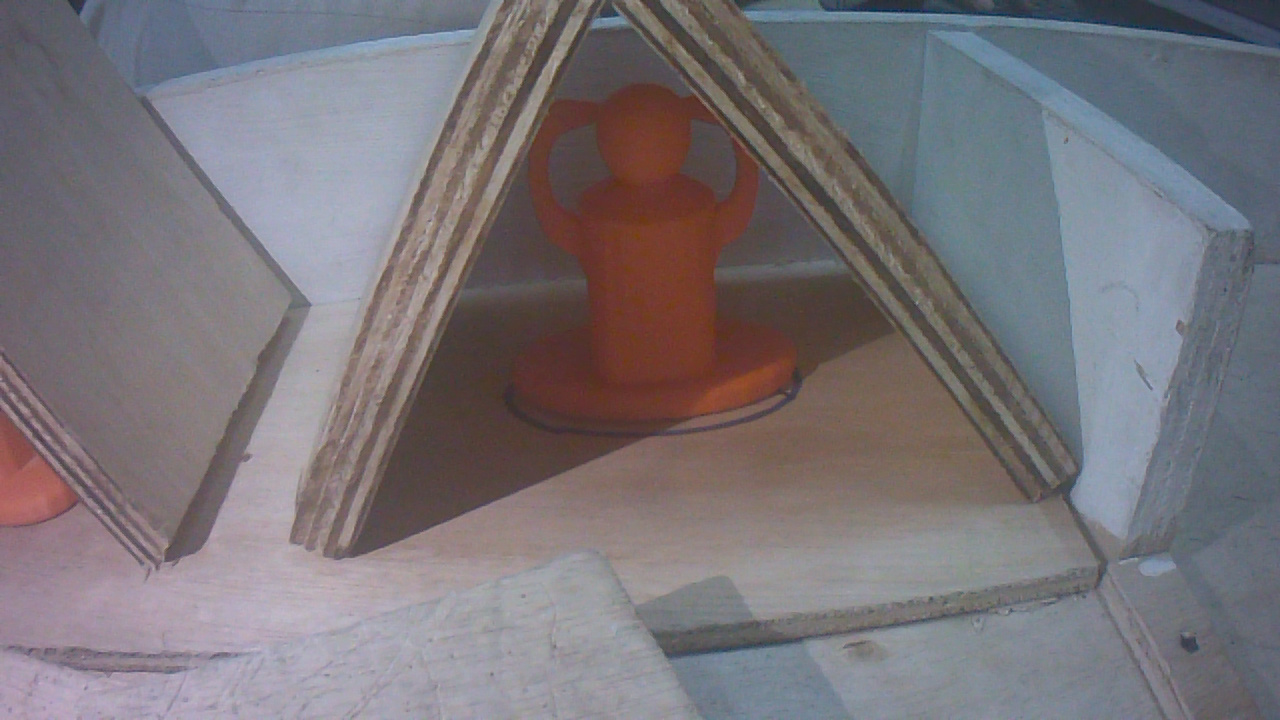real: (502, 63, 790, 430)
